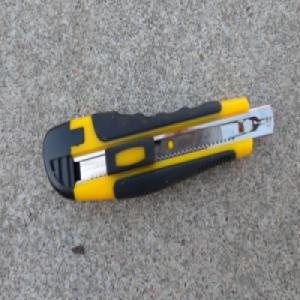Cutter: (42, 95, 274, 203)
